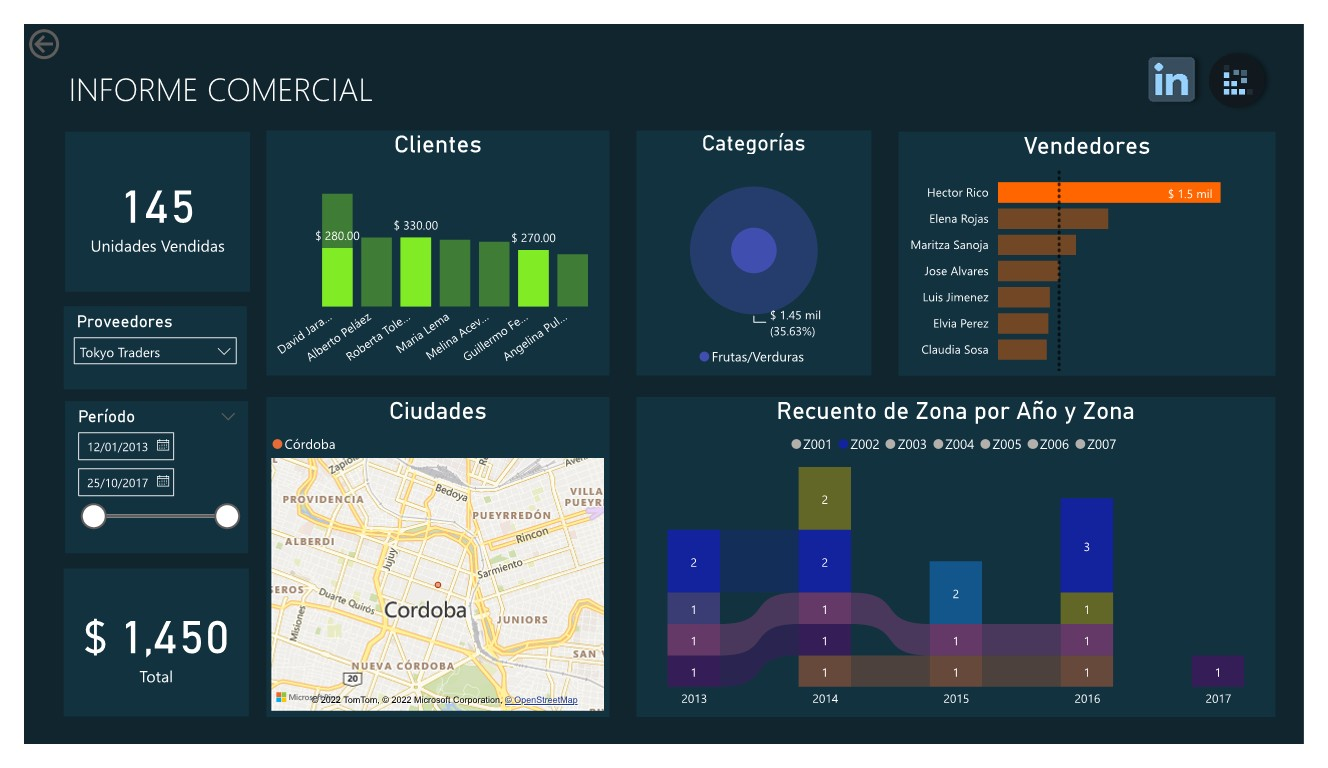

This screenshot's page, from the dashboard's own definition file:
{"tool":"powerbi","page":{"name":"Proveedor1","canvas":[1280,720],"ordinal":1},"visuals":[{"type":"clusteredColumnChart","title":"Clientes","fields":{"Category":["Clientes.Nombre y Apellido"],"Y":["Facturacion.Total"]},"box":[242.8,105.6,343.3,245.2],"z":0,"group":"g1"},{"type":"group","id":"g1","title":"Grupo 1","box":[242.8,105.6,1008.9,588],"z":0},{"type":"pieChart","title":"Categorías","fields":{"Category":["Productos.Categoría"],"Y":["Facturacion.Total"]},"box":[613.2,105.6,234.9,245.2],"z":1000,"group":"g1"},{"type":"card","fields":{"Values":["Facturacion.Cantidad"]},"box":[40.5,108,185.1,160],"z":1000},{"type":"clusteredBarChart","title":"Vendedores","fields":{"Category":["Vendedores.Nombre y Apellido"],"Y":["Facturacion.Total"]},"box":[875.1,106.9,376.8,244],"z":2000,"group":"g1"},{"type":"slicer","fields":{"Values":["Facturacion.Fecha"]},"box":[41.5,376.9,183.1,152.3],"z":2000},{"type":"image","box":[1116.9,36.9,96.4,55.3],"z":3000},{"type":"map","title":"Ciudades","fields":{"Y":["Zonas.Latitud"],"X":["Zonas.Longitud"],"Series":["Zonas.Descripcion"],"Size":["Facturacion.Total"]},"box":[242.8,372.7,343.3,319.7],"z":3000,"group":"g1"},{"type":"image","box":[1197.6,36.9,55.3,53.9],"z":4000},{"type":"ribbonChart","fields":{"Category":["Facturacion.Fecha.Variación.Jerarquía de fechas.Año","Facturacion.Fecha.Variación.Jerarquía de fechas.Trimestre","Facturacion.Fecha.Variación.Jerarquía de fechas.Mes","Facturacion.Fecha.Variación.Jerarquía de fechas.Día"],"Y":["Facturacion.Zona"],"Series":["Facturacion.Zona"]},"box":[613.2,372.7,638.8,319.7],"z":5000,"group":"g1"},{"type":"slicer","fields":{"Values":["Productos.Proveedor"]},"box":[40,281.5,183.1,83.1],"z":5000},{"type":"textbox","box":[40,36.9,356.9,152.3],"z":6000},{"type":"card","fields":{"Values":["Facturacion.Total"]},"box":[40,544.6,184.6,147.7],"z":7000},{"type":"actionButton","box":[0,0,100,40],"z":8000}]}

Visuals, with their boxes on the page's 1280x720 design canvas (x1, y1, x2, y2). These are canvas units, not pixel positions in the 1328x768 screenshot, which may show the page scaled, cropped or inside an application window:
"Clientes" clusteredColumnChart: detection(243, 106, 586, 351)
"Grupo 1" group: detection(243, 106, 1252, 694)
"Categorías" pieChart: detection(613, 106, 848, 351)
card - Facturacion.Cantidad: detection(40, 108, 226, 268)
"Vendedores" clusteredBarChart: detection(875, 107, 1252, 351)
slicer - Facturacion.Fecha: detection(42, 377, 225, 529)
image: detection(1117, 37, 1213, 92)
"Ciudades" map: detection(243, 373, 586, 692)
image: detection(1198, 37, 1253, 91)
ribbonChart - Facturacion.Fecha.Variación.Jerarquía de fechas.Año x Facturacion.Fecha.Variación.Jerarquía de fechas.Trimestre: detection(613, 373, 1252, 692)
slicer - Productos.Proveedor: detection(40, 282, 223, 365)
textbox: detection(40, 37, 397, 189)
card - Facturacion.Total: detection(40, 545, 225, 692)
actionButton: detection(0, 0, 100, 40)
